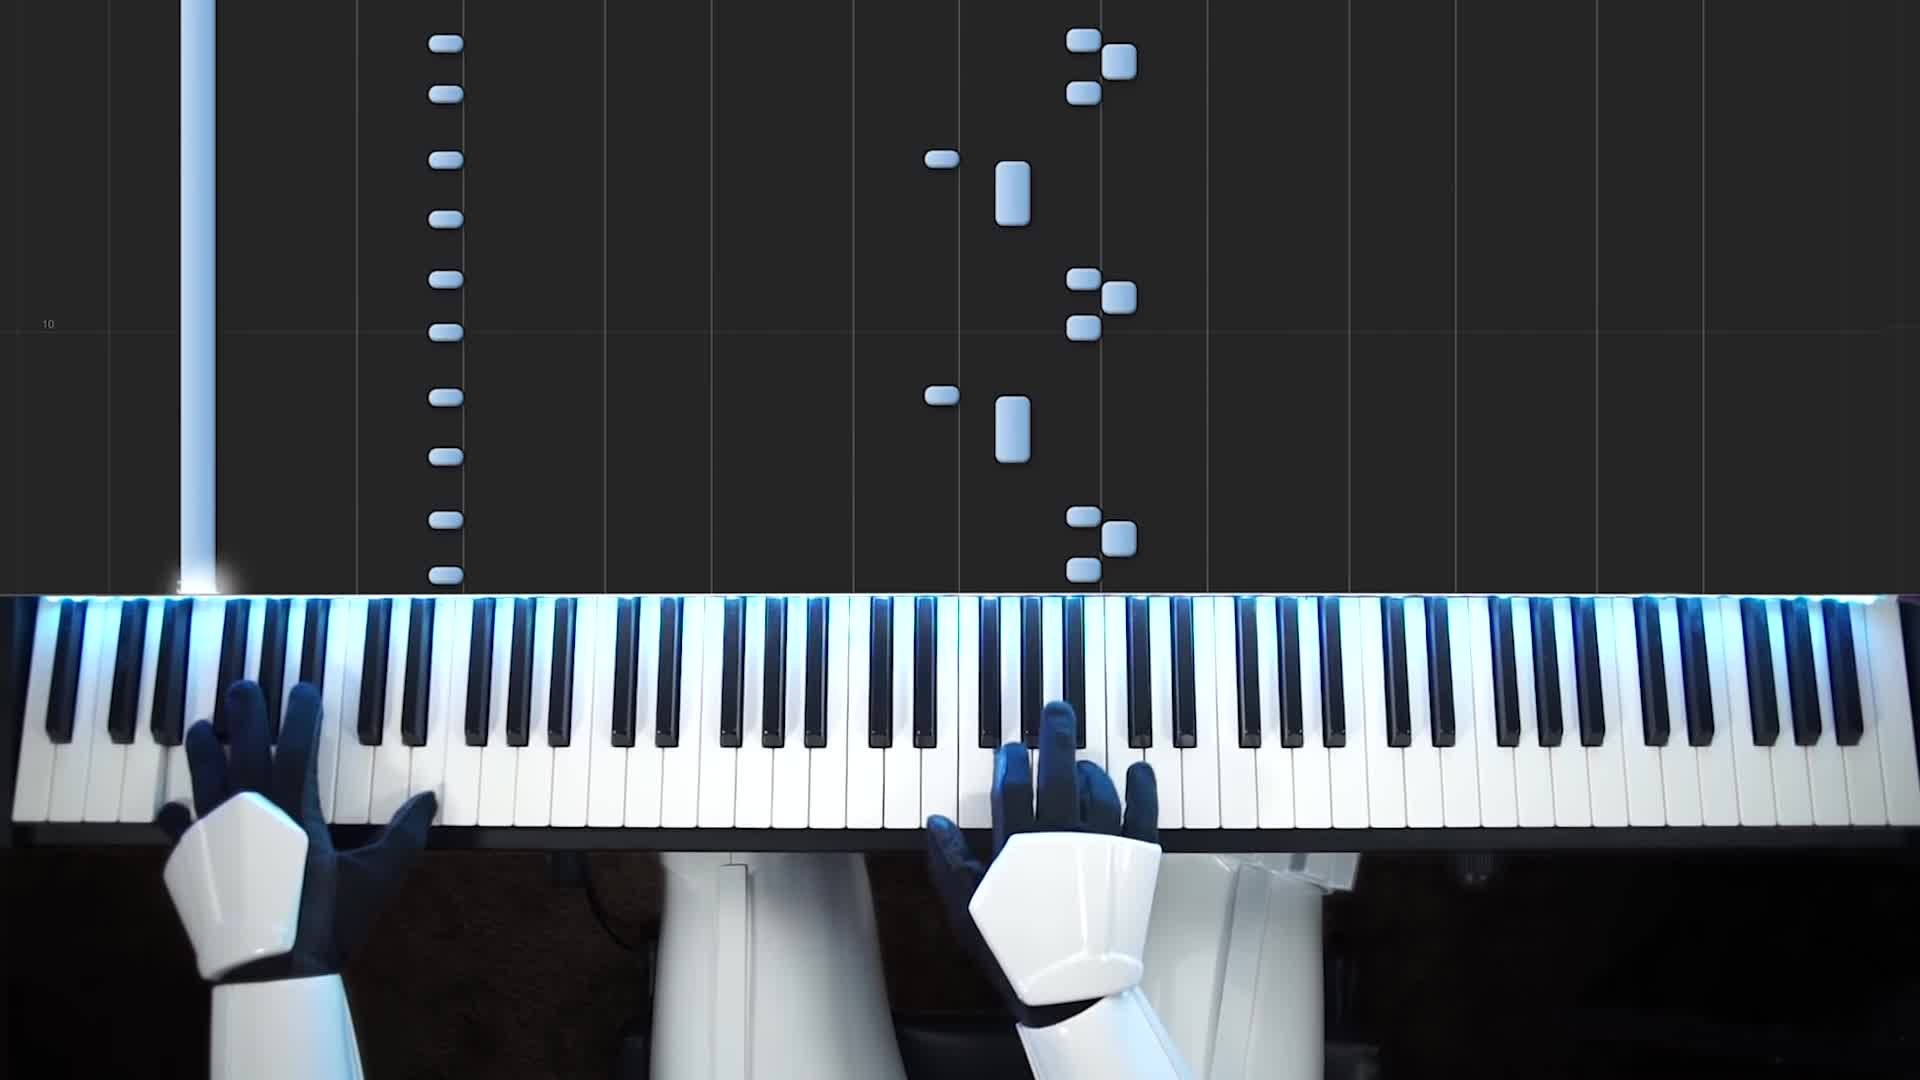left: (160, 678, 439, 981)
right: (928, 705, 1160, 1010)
